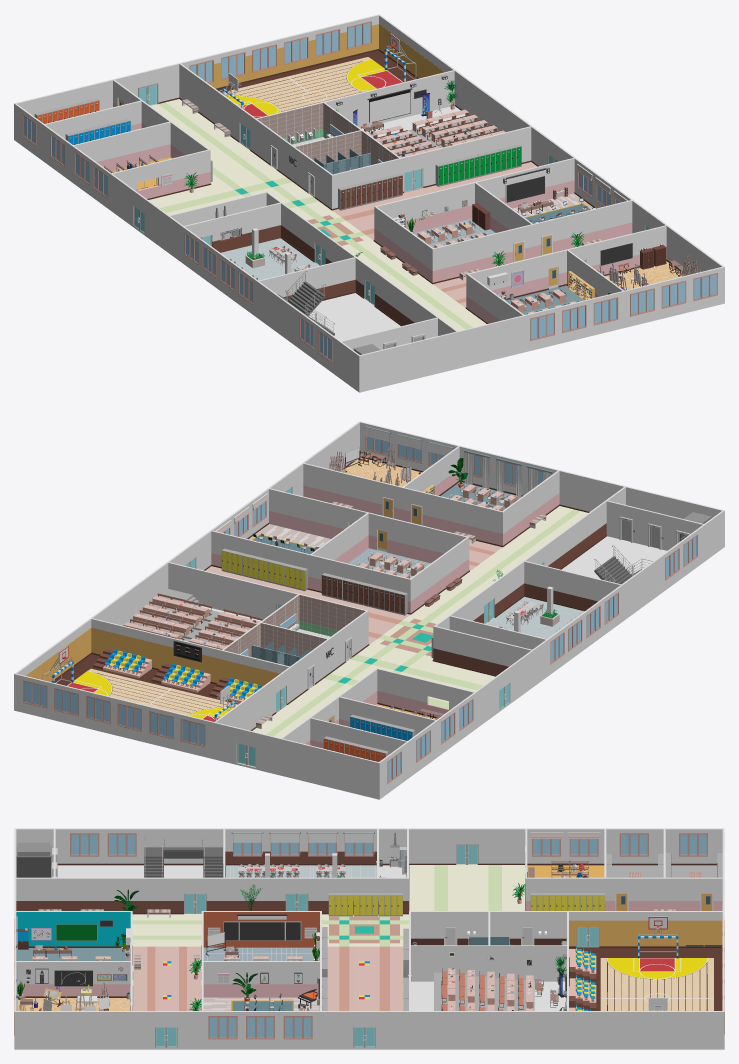
Rendered from school002-transformed.glb.
The picture shows the model from 3 angles, top to bottom: view 1: azimuth 30°, elevation 25°; view 2: azimuth 150°, elevation 25°; view 3: azimuth 270°, elevation 25°; orthographic projection. The views are drawn at different scales.
Parts seen in each view (by area): view 1: Walls_006.087, Walls_006.042, floor_026.001, Walls_006.025, floor_026.003, floor_023.001, floor_027.001, floor_023.002, Walls_006.027, Walls_056.001, Walls_006.088, Walls_006.026 (+55 smaller); view 2: Walls_006.001, floor_026.003, Walls_006.027, Walls_006.042, Walls_006.087, Walls_010.015, Walls_006.025, floor_027.001, Walls_056.001, Walls_006.118, Walls_006.132, floor_023.001 (+53 smaller); view 3: Walls_006.325, Walls_006.026, floor_026.002, Walls_006.038, floor_023.002, Walls_006.070, Walls_006.123, Walls_056.001, Walls_010.016, Walls_094.001, floor_029.001, floor_028.001 (+88 smaller).
Part boxes in pixels (x1=…): Walls_006.087: x1=358, y1=314, x2=530, y2=390; Walls_006.042: x1=374, y1=158, x2=574, y2=228; floor_026.001: x1=150, y1=99, x2=273, y2=183; Walls_006.025: x1=167, y1=241, x2=458, y2=392; floor_026.003: x1=315, y1=242, x2=486, y2=330; floor_023.001: x1=287, y1=57, x2=402, y2=101; floor_027.001: x1=209, y1=168, x2=331, y2=217; floor_023.002: x1=221, y1=76, x2=321, y2=118; Walls_006.027: x1=423, y1=126, x2=531, y2=186; Walls_056.001: x1=217, y1=50, x2=419, y2=195; Walls_006.088: x1=73, y1=121, x2=171, y2=161; Walls_006.026: x1=454, y1=70, x2=532, y2=131; Walls_006.001: x1=255, y1=732, x2=380, y2=797; floor_026.003: x1=412, y1=506, x2=587, y2=623; Walls_006.027: x1=168, y1=562, x2=276, y2=619; Walls_006.042: x1=211, y1=530, x2=411, y2=601; Walls_006.087: x1=553, y1=468, x2=724, y2=545; Walls_010.015: x1=91, y1=627, x2=279, y2=686; Walls_006.025: x1=533, y1=536, x2=724, y2=686; floor_027.001: x1=311, y1=645, x2=434, y2=694; Walls_056.001: x1=14, y1=654, x2=347, y2=759; Walls_006.118: x1=433, y1=626, x2=531, y2=666; Walls_006.132: x1=524, y1=561, x2=621, y2=601; floor_023.001: x1=67, y1=668, x2=171, y2=705; Walls_006.325: x1=567, y1=1011, x2=724, y2=1047; Walls_006.026: x1=409, y1=1011, x2=566, y2=1047; floor_026.002: x1=409, y1=864, x2=524, y2=910; Walls_006.038: x1=411, y1=945, x2=566, y2=981; floor_023.002: x1=600, y1=958, x2=713, y2=998; Walls_006.070: x1=14, y1=1011, x2=130, y2=1047; Walls_006.123: x1=16, y1=877, x2=183, y2=900; Walls_056.001: x1=409, y1=947, x2=724, y2=1049; Walls_010.016: x1=599, y1=920, x2=722, y2=946; Walls_094.001: x1=16, y1=911, x2=130, y2=946; floor_029.001: x1=327, y1=946, x2=403, y2=980; floor_028.001: x1=322, y1=914, x2=408, y2=946.
Size of the model in its own units: 44.2 by 5.22 by 72.04.
1 material, 1 textured.
